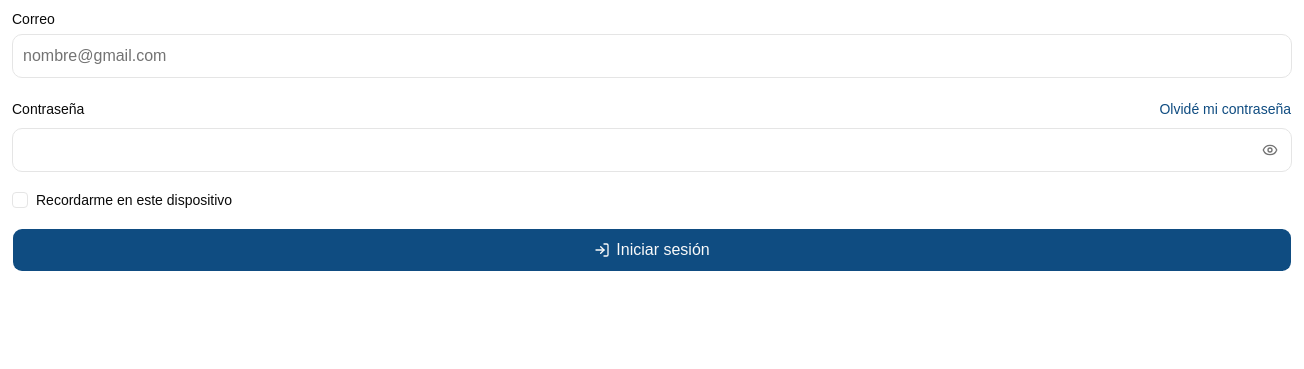
LoginForm › si las cuentas aún no están activas lo avisa, sin dar la sesión por iniciada
In the field labelled "Correo": (652, 56) [12, 34, 1292, 78], type "ana@gmail.com"
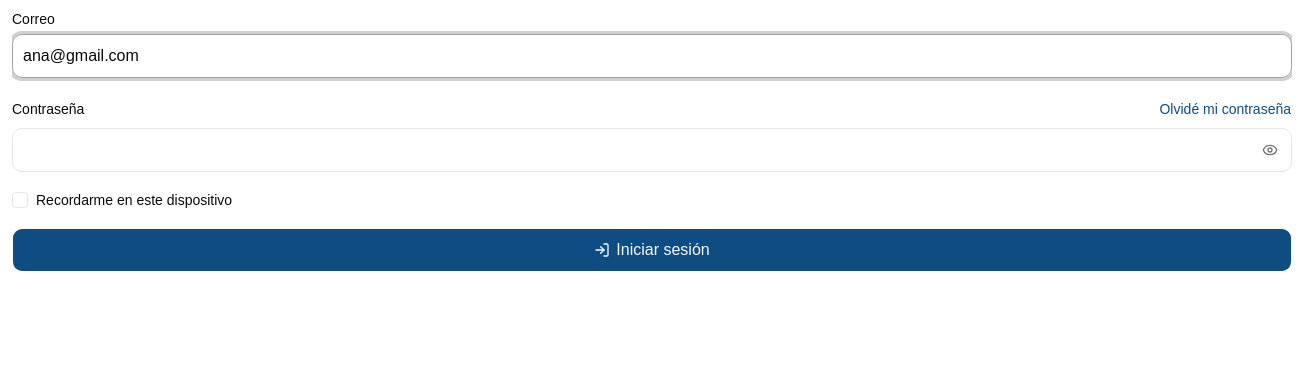
In the password field labelled "Contraseña": (652, 150) [12, 128, 1292, 172], type "secreta123"
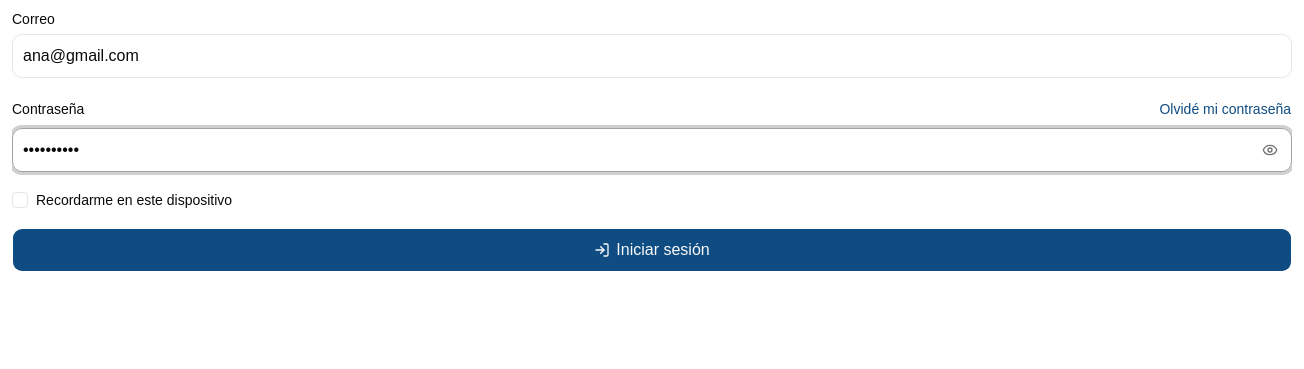
Click the button "Iniciar sesión": click(652, 250) [12, 228, 1292, 272]
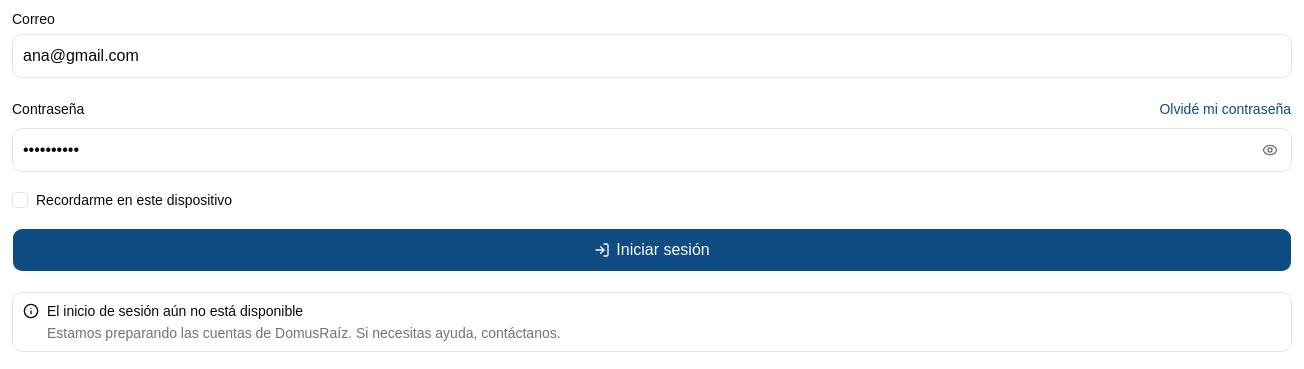
Result: the message shows "El inicio de sesión aún no está disponible" at [47, 303, 303, 319]
